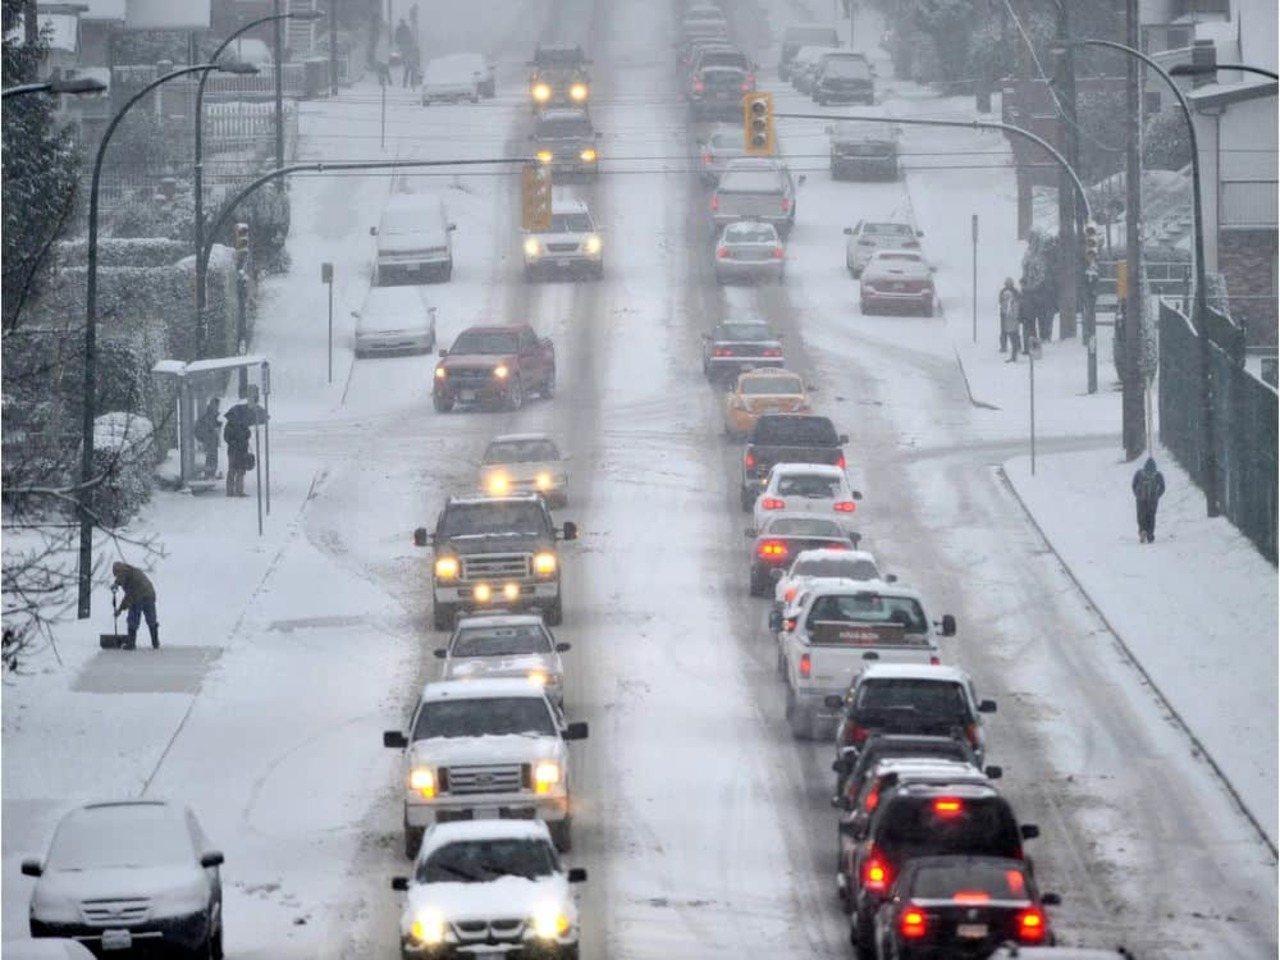car: (101, 30, 1192, 903), (24, 797, 225, 957), (400, 682, 579, 858), (843, 785, 1023, 949), (400, 818, 580, 958), (783, 588, 946, 728), (421, 493, 567, 638), (829, 658, 993, 785), (883, 856, 1055, 959), (440, 610, 569, 704), (433, 321, 558, 415), (747, 516, 859, 602), (739, 414, 846, 494), (751, 463, 861, 539), (519, 188, 606, 282), (373, 192, 455, 287), (707, 159, 800, 241), (476, 434, 571, 510), (351, 287, 437, 358), (723, 370, 811, 439), (704, 319, 785, 391), (772, 556, 895, 601), (825, 112, 905, 178), (857, 254, 939, 317), (527, 108, 602, 174), (713, 219, 785, 285), (843, 218, 923, 276), (693, 69, 756, 123), (696, 133, 768, 172), (814, 64, 880, 106), (527, 61, 590, 101), (420, 60, 475, 106), (464, 53, 496, 96), (800, 53, 829, 91)
person: (103, 557, 159, 649), (1127, 457, 1163, 546), (222, 408, 253, 502), (195, 394, 222, 481), (1037, 265, 1058, 346), (1020, 278, 1039, 358), (999, 278, 1019, 349), (1001, 292, 1019, 363), (400, 39, 420, 90)
